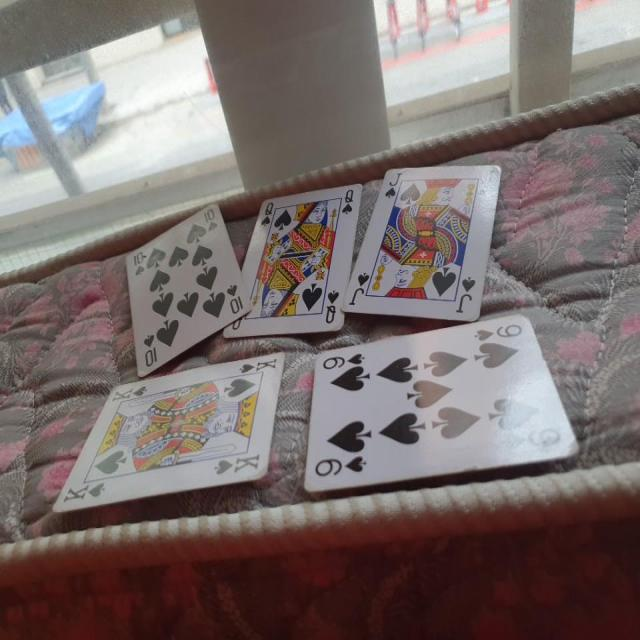10 Spades: (128, 195, 254, 372)
9 Spades: (306, 309, 584, 490)
J Spades: (347, 162, 507, 332)
K Spades: (48, 348, 293, 524)
Q Spades: (228, 185, 362, 340)
